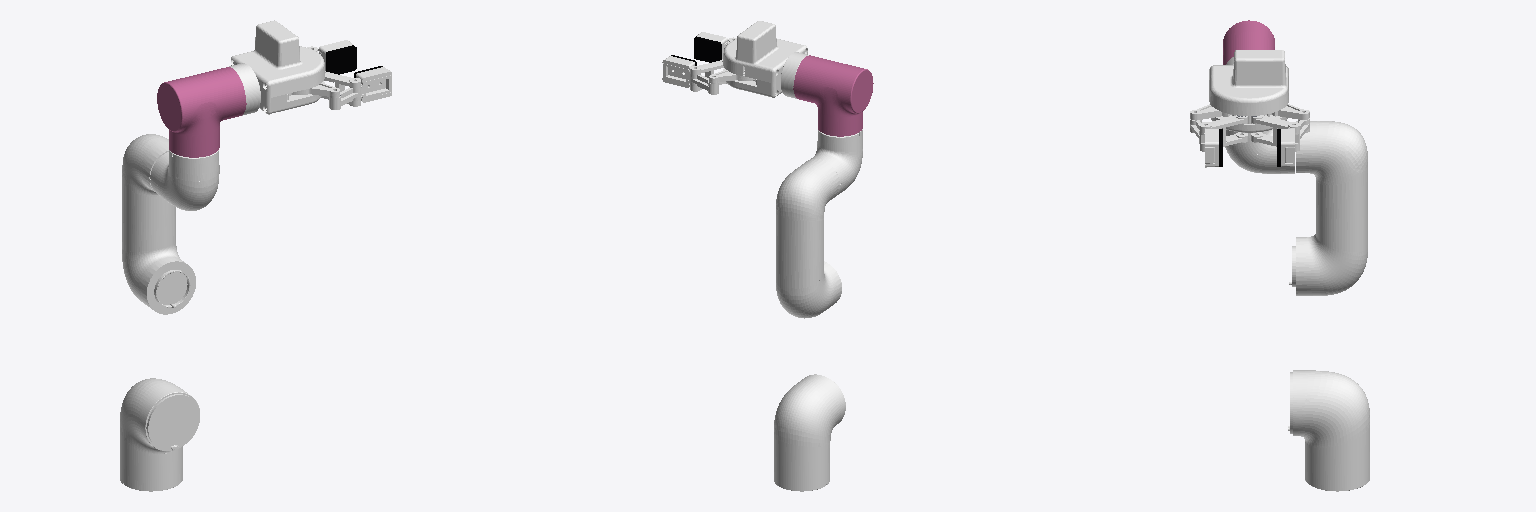
robot.urdf — mycobot_280_jn:
<?xml version="1.0"?>
<robot name="mycobot_280_jn">
  <link name="world"/>
  <joint name="world_to_joint1" type="fixed"><parent link="world"/><child link="joint1"/><origin xyz="0 0 0" rpy="0 0 0"/></joint>

  <link name="joint1">
    <visual>
      <geometry><mesh filename="package://mycobot_description/urdf/mycobot_280_jn_sim/meshes/visual/joint1.dae"/></geometry>
    </visual>
    <collision>
      <geometry><mesh filename="package://mycobot_description/urdf/mycobot_280_jn_sim/meshes/collision/joint1.stl"/></geometry>
    </collision>
    <inertial>
      <origin xyz="-0.000007 -0.000080 0.049738" rpy="0 0 0"/>
      <mass value="0.51726"/>
      <inertia ixx="1.2523e-03" ixy="7.0339e-09" ixz="-6.3450e-08" iyy="9.3955e-04" iyz="1.1529e-06" izz="1.2061e-03"/>
    </inertial>
  </link>
  <link name="joint2">
    <visual>
      <geometry><mesh filename="package://mycobot_description/urdf/mycobot_280_jn_sim/meshes/visual/joint2.dae"/></geometry>
    </visual>
    <collision>
      <geometry><mesh filename="package://mycobot_description/urdf/mycobot_280_jn_sim/meshes/collision/joint2.stl"/></geometry>
    </collision>
    <inertial>
      <origin xyz="-0.000000 -0.006642 -0.021543" rpy="0 0 0"/>
      <mass value="0.06483"/>
      <inertia ixx="4.7296e-05" ixy="-1.4455e-10" ixz="4.0893e-11" iyy="4.2690e-05" iyz="5.2950e-06" izz="2.4363e-05"/>
    </inertial>
  </link>
  <link name="joint3">
    <visual>
      <geometry><mesh filename="package://mycobot_description/urdf/mycobot_280_jn_sim/meshes/visual/joint3.dae"/></geometry>
    </visual>
    <collision>
      <geometry><mesh filename="package://mycobot_description/urdf/mycobot_280_jn_sim/meshes/collision/joint3.stl"/></geometry>
    </collision>
    <inertial>
      <origin xyz="-0.054329 -0.000001 0.055329" rpy="0 0 0"/>
      <mass value="0.11472"/>
      <inertia ixx="4.1667e-05" ixy="-4.5301e-09" ixz="-7.2144e-07" iyy="2.1506e-04" iyz="-8.8599e-10" izz="2.0847e-04"/>
    </inertial>
  </link>
  <link name="joint4">
    <visual>
      <geometry><mesh filename="package://mycobot_description/urdf/mycobot_280_jn_sim/meshes/visual/joint4.dae"/></geometry>
    </visual>
    <collision>
      <geometry><mesh filename="package://mycobot_description/urdf/mycobot_280_jn_sim/meshes/collision/joint4.stl"/></geometry>
    </collision>
    <inertial>
      <origin xyz="-0.045854 0.000000 0.007555" rpy="0 0 0"/>
      <mass value="0.09148"/>
      <inertia ixx="3.0829e-05" ixy="2.4590e-09" ixz="-3.0073e-06" iyy="1.3707e-04" iyz="1.3305e-09" izz="1.2859e-04"/>
    </inertial>
  </link>
  <link name="joint5">
    <visual>
      <geometry><mesh filename="package://mycobot_description/urdf/mycobot_280_jn_sim/meshes/visual/joint5.dae"/></geometry>
    </visual>
    <collision>
      <geometry><mesh filename="package://mycobot_description/urdf/mycobot_280_jn_sim/meshes/collision/joint5.stl"/></geometry>
    </collision>
    <inertial>
      <origin xyz="0.000001 -0.009519 -0.008481" rpy="0 0 0"/>
      <mass value="0.02935"/>
      <inertia ixx="1.1293e-05" ixy="2.2528e-10" ixz="1.0500e-10" iyy="8.1426e-06" iyz="1.6096e-06" izz="8.8742e-06"/>
    </inertial>
  </link>
  <link name="joint6">
    <visual>
      <geometry><mesh filename="package://mycobot_description/urdf/mycobot_280_jn_sim/meshes/visual/joint6.dae"/></geometry>
    </visual>
    <collision>
      <geometry><mesh filename="package://mycobot_description/urdf/mycobot_280_jn_sim/meshes/collision/joint6.stl"/></geometry>
    </collision>
    <inertial>
      <origin xyz="-0.000000 0.005619 -0.009142" rpy="0 0 0"/>
      <mass value="0.03671"/>
      <inertia ixx="1.6852e-05" ixy="1.3225e-11" ixz="9.2639e-11" iyy="1.2050e-05" iyz="-8.3674e-07" izz="1.2581e-05"/>
    </inertial>
  </link>
  <link name="joint6_flange">
    <visual>
      <geometry><mesh filename="package://mycobot_description/urdf/mycobot_280_jn_sim/meshes/visual/joint6_flange.dae"/></geometry>
    </visual>
    <collision>
      <geometry><mesh filename="package://mycobot_description/urdf/mycobot_280_jn_sim/meshes/collision/joint6_flange.stl"/></geometry>
    </collision>
    <inertial>
      <origin xyz="-0.000000 -0.000000 -0.005150" rpy="0 0 0"/>
      <mass value="0.00565"/>
      <inertia ixx="6.0852e-07" ixy="-5.1861e-24" ixz="1.4684e-24" iyy="6.0852e-07" iyz="-7.5632e-16" izz="1.0405e-06"/>
    </inertial>
  </link>
  <joint name="joint2_to_joint1" type="revolute">
    <parent link="joint1"/><child link="joint2"/>
    <origin xyz="0 0 0.15756" rpy="0 0 0"/>
    <axis xyz="0 0 1"/>
    <limit effort="10.0" lower="-2.9321" upper="2.9321" velocity="1.0"/>
    <dynamics damping="0.1" friction="0.01"/>
  </joint>
  <joint name="joint3_to_joint2" type="revolute">
    <parent link="joint2"/><child link="joint3"/>
    <origin xyz="0 0 -0.001" rpy="0 1.5708 -1.5708"/>
    <axis xyz="0 0 1"/>
    <limit effort="10.0" lower="-2.4434" upper="2.4434" velocity="1.0"/>
    <dynamics damping="0.1" friction="0.01"/>
  </joint>
  <joint name="joint4_to_joint3" type="revolute">
    <parent link="joint3"/><child link="joint4"/>
    <origin xyz="-0.1104 0 0" rpy="0 0 0"/>
    <axis xyz="0 0 1"/>
    <limit effort="10.0" lower="-2.6179" upper="2.6179" velocity="1.0"/>
    <dynamics damping="0.1" friction="0.01"/>
  </joint>
  <joint name="joint5_to_joint4" type="revolute">
    <parent link="joint4"/><child link="joint5"/>
    <origin xyz="-0.096 0 0.06462" rpy="0 0 -1.5708"/>
    <axis xyz="0 0 1"/>
    <limit effort="10.0" lower="-2.6179" upper="2.6179" velocity="1.0"/>
    <dynamics damping="0.1" friction="0.01"/>
  </joint>
  <joint name="joint6_to_joint5" type="revolute">
    <parent link="joint5"/><child link="joint6"/>
    <origin xyz="0 -0.07318 0" rpy="1.5708 -1.5708 0"/>
    <axis xyz="0 0 1"/>
    <limit effort="10.0" lower="-2.7052" upper="2.7925" velocity="1.0"/>
    <dynamics damping="0.1" friction="0.01"/>
  </joint>
  <joint name="joint6output_to_joint6" type="revolute">
    <parent link="joint6"/><child link="joint6_flange"/>
    <origin xyz="0 0.0456 0" rpy="-1.5708 0 0"/>
    <axis xyz="0 0 1"/>
    <limit effort="10.0" lower="-3.14159" upper="3.14159" velocity="1.0"/>
    <dynamics damping="0.1" friction="0.01"/>
  </joint>
  <joint name="joint6output_to_gripper_base" type="fixed">
    <parent link="joint6_flange"/><child link="gripper_base"/>
    <origin xyz="0 0 0.0340" rpy="1.5708 0 0"/>
  </joint>
  <link name="gripper_base">
    <visual>
      <geometry><mesh filename="package://mycobot_description/urdf/mycobot_280_jn_sim/meshes/visual/gripper_base.dae"/></geometry>
    </visual>
    <collision>
      <geometry><mesh filename="package://mycobot_description/urdf/mycobot_280_jn_sim/meshes/collision/gripper_base.stl"/></geometry>
    </collision>
    <inertial>
      <origin xyz="-0.001001 -0.003635 0.008093" rpy="0 0 0"/>
      <mass value="0.07075"/>
      <inertia ixx="2.8026e-05" ixy="5.3586e-08" ixz="1.3520e-06" iyy="2.7596e-05" iyz="-2.1469e-07" izz="3.3185e-05"/>
    </inertial>
  </link>
  <link name="gripper_left1">
    <visual>
      <geometry><mesh filename="package://mycobot_description/urdf/mycobot_280_jn_sim/meshes/visual/gripper_left1.dae"/></geometry>
    </visual>
    <collision>
      <geometry><mesh filename="package://mycobot_description/urdf/mycobot_280_jn_sim/meshes/collision/gripper_left1.stl"/></geometry>
    </collision>
    <inertial>
      <origin xyz="0.008214 0.028640 -0.008200" rpy="0 0 0"/>
      <mass value="0.00818"/>
      <inertia ixx="1.9436e-06" ixy="-4.0582e-07" ixz="-4.5846e-18" iyy="4.9518e-07" iyz="1.0352e-17" izz="1.9801e-06"/>
    </inertial>
  </link>
  <link name="gripper_left2">
    <visual>
      <geometry><mesh filename="package://mycobot_description/urdf/mycobot_280_jn_sim/meshes/visual/gripper_left2.dae"/></geometry>
    </visual>
    <collision>
      <geometry><mesh filename="package://mycobot_description/urdf/mycobot_280_jn_sim/meshes/collision/gripper_left2.stl"/></geometry>
    </collision>
    <inertial>
      <origin xyz="-0.014480 0.007475 -0.008200" rpy="0 0 0"/>
      <mass value="0.00382"/>
      <inertia ixx="2.5930e-07" ixy="1.8945e-07" ixz="3.4700e-22" iyy="4.8476e-07" iyz="-1.7350e-22" izz="4.9007e-07"/>
    </inertial>
  </link>
  <link name="gripper_left3">
    <visual>
      <geometry><mesh filename="package://mycobot_description/urdf/mycobot_280_jn_sim/meshes/visual/gripper_left3.dae"/></geometry>
    </visual>
    <collision>
      <geometry><mesh filename="package://mycobot_description/urdf/mycobot_280_jn_sim/meshes/collision/gripper_left3.stl"/></geometry>
    </collision>
    <inertial>
      <origin xyz="-0.007273 0.003393 -0.000700" rpy="0 0 0"/>
      <mass value="0.00262"/>
      <inertia ixx="1.8212e-07" ixy="1.1552e-07" ixz="3.0543e-22" iyy="3.1951e-07" iyz="-1.8344e-22" izz="4.9073e-07"/>
    </inertial>
  </link>
  <link name="gripper_right1">
    <visual>
      <geometry><mesh filename="package://mycobot_description/urdf/mycobot_280_jn_sim/meshes/visual/gripper_right1.dae"/></geometry>
    </visual>
    <collision>
      <geometry><mesh filename="package://mycobot_description/urdf/mycobot_280_jn_sim/meshes/collision/gripper_right1.stl"/></geometry>
    </collision>
    <inertial>
      <origin xyz="-0.009429 0.029012 -0.008200" rpy="0 0 0"/>
      <mass value="0.00818"/>
      <inertia ixx="1.9436e-06" ixy="4.0581e-07" ixz="-4.5855e-18" iyy="4.9518e-07" iyz="-1.0353e-17" izz="1.9801e-06"/>
    </inertial>
  </link>
  <link name="gripper_right2">
    <visual>
      <geometry><mesh filename="package://mycobot_description/urdf/mycobot_280_jn_sim/meshes/visual/gripper_right2.dae"/></geometry>
    </visual>
    <collision>
      <geometry><mesh filename="package://mycobot_description/urdf/mycobot_280_jn_sim/meshes/collision/gripper_right2.stl"/></geometry>
    </collision>
    <inertial>
      <origin xyz="0.013373 0.007661 -0.008200" rpy="0 0 0"/>
      <mass value="0.00382"/>
      <inertia ixx="2.6459e-07" ixy="-1.9250e-07" ixz="-4.0483e-22" iyy="4.7946e-07" iyz="2.8917e-23" izz="4.9007e-07"/>
    </inertial>
  </link>
  <link name="gripper_right3">
    <visual>
      <geometry><mesh filename="package://mycobot_description/urdf/mycobot_280_jn_sim/meshes/visual/gripper_right3.dae"/></geometry>
    </visual>
    <collision>
      <geometry><mesh filename="package://mycobot_description/urdf/mycobot_280_jn_sim/meshes/collision/gripper_right3.stl"/></geometry>
    </collision>
    <inertial>
      <origin xyz="0.006227 0.003481 -0.000700" rpy="0 0 0"/>
      <mass value="0.00262"/>
      <inertia ixx="1.8527e-07" ixy="-1.1744e-07" ixz="-1.9519e-22" iyy="3.1623e-07" iyz="-1.5091e-22" izz="4.9060e-07"/>
    </inertial>
  </link>
  <joint name="gripper_controller" type="revolute">
    <parent link="gripper_base"/><child link="gripper_left3"/>
    <origin xyz="-0.012 0.005 0" rpy="0 0 0"/>
    <axis xyz="0 0 1"/>
    <limit effort="10.0" lower="-0.74" upper="0.15" velocity="1.0"/>
    <dynamics damping="0.1" friction="0.01"/>
  </joint>
  <joint name="gripper_base_to_gripper_left2" type="revolute">
    <parent link="gripper_base"/><child link="gripper_left2"/>
    <origin xyz="-0.005 0.027 0" rpy="0 0 0"/>
    <axis xyz="0 0 1"/>
    <limit effort="10.0" lower="-0.8" upper="0.5" velocity="1.0"/>
    <dynamics damping="0.1" friction="0.01"/>
    <mimic joint="gripper_controller" multiplier="1.0" offset="0"/>
  </joint>
  <joint name="gripper_left3_to_gripper_left1" type="revolute">
    <parent link="gripper_left3"/><child link="gripper_left1"/>
    <origin xyz="-0.027 0.016 0" rpy="0 0 0"/>
    <axis xyz="0 0 1"/>
    <limit effort="10.0" lower="-0.5" upper="0.5" velocity="1.0"/>
    <dynamics damping="0.1" friction="0.01"/>
    <mimic joint="gripper_controller" multiplier="-1.0" offset="0"/>
  </joint>
  <joint name="gripper_base_to_gripper_right3" type="revolute">
    <parent link="gripper_base"/><child link="gripper_right3"/>
    <origin xyz="0.012 0.005 0" rpy="0 0 0"/>
    <axis xyz="0 0 1"/>
    <limit effort="10.0" lower="-0.15" upper="0.7" velocity="1.0"/>
    <dynamics damping="0.1" friction="0.01"/>
    <mimic joint="gripper_controller" multiplier="-1.0" offset="0"/>
  </joint>
  <joint name="gripper_base_to_gripper_right2" type="revolute">
    <parent link="gripper_base"/><child link="gripper_right2"/>
    <origin xyz="0.005 0.027 0" rpy="0 0 0"/>
    <axis xyz="0 0 1"/>
    <limit effort="10.0" lower="-0.5" upper="0.8" velocity="1.0"/>
    <dynamics damping="0.1" friction="0.01"/>
    <mimic joint="gripper_controller" multiplier="-1.0" offset="0"/>
  </joint>
  <joint name="gripper_right3_to_gripper_right1" type="revolute">
    <parent link="gripper_right3"/><child link="gripper_right1"/>
    <origin xyz="0.027 0.016 0" rpy="0 0 0"/>
    <axis xyz="0 0 1"/>
    <limit effort="10.0" lower="-0.5" upper="0.5" velocity="1.0"/>
    <dynamics damping="0.1" friction="0.01"/>
    <mimic joint="gripper_controller" multiplier="1.0" offset="0"/>
  </joint>

  <!-- Gazebo: gravity off on the moving links (passive joints would otherwise fall; no controller yet) -->
  <gazebo reference="joint2"><turnGravityOff>true</turnGravityOff></gazebo>
  <gazebo reference="joint3"><turnGravityOff>true</turnGravityOff></gazebo>
  <gazebo reference="joint4"><turnGravityOff>true</turnGravityOff></gazebo>
  <gazebo reference="joint5"><turnGravityOff>true</turnGravityOff></gazebo>
  <gazebo reference="joint6"><turnGravityOff>true</turnGravityOff></gazebo>
  <gazebo reference="joint6_flange"><turnGravityOff>true</turnGravityOff></gazebo>
  <gazebo reference="gripper_base"><turnGravityOff>true</turnGravityOff></gazebo>
  <gazebo reference="gripper_left1"><turnGravityOff>true</turnGravityOff></gazebo>
  <gazebo reference="gripper_left2"><turnGravityOff>true</turnGravityOff></gazebo>
  <gazebo reference="gripper_left3"><turnGravityOff>true</turnGravityOff></gazebo>
  <gazebo reference="gripper_right1"><turnGravityOff>true</turnGravityOff></gazebo>
  <gazebo reference="gripper_right2"><turnGravityOff>true</turnGravityOff></gazebo>
  <gazebo reference="gripper_right3"><turnGravityOff>true</turnGravityOff></gazebo>
</robot>

--- Facts derived from the render (not from the file) ---
Views: 3 orthographic renders of the robot side by side, from view 1: azimuth 30°, elevation 25°; view 2: azimuth 150°, elevation 25°; view 3: azimuth 270°, elevation 25°.
Model mycobot_280_jn with 15 links and 14 joints (12 revolute, 2 fixed), rooted at world, posed all joints at 0.
Visible links, largest first — view 1: joint4, joint2, joint6, gripper_base, joint5, gripper_right1, gripper_left1, joint6_flange; view 2: joint4, joint2, joint6, gripper_base, joint5, gripper_left1, gripper_right1, joint6_flange; view 3: joint4, joint2, gripper_base, joint5, joint6, gripper_right1, gripper_left1, gripper_left2, gripper_right2.
Boxes of the visible links, left/top/right/bottom form: joint4: left=122, top=134, right=195, bottom=314; joint2: left=120, top=378, right=199, bottom=491; joint6: left=157, top=67, right=246, bottom=157; gripper_base: left=231, top=20, right=324, bottom=114; joint5: left=150, top=150, right=219, bottom=210; gripper_right1: left=329, top=66, right=391, bottom=109; gripper_left1: left=318, top=40, right=356, bottom=74; joint6_flange: left=229, top=63, right=260, bottom=115; joint4: left=776, top=159, right=841, bottom=318; joint2: left=774, top=374, right=845, bottom=491; joint6: left=793, top=55, right=873, bottom=136; gripper_base: left=723, top=21, right=807, bottom=97; joint5: left=811, top=129, right=862, bottom=197; gripper_left1: left=662, top=55, right=718, bottom=94; gripper_right1: left=694, top=32, right=727, bottom=62; joint6_flange: left=781, top=52, right=808, bottom=98; joint4: left=1289, top=121, right=1367, bottom=295; joint2: left=1288, top=370, right=1369, bottom=491; gripper_base: left=1209, top=50, right=1288, bottom=132; joint5: left=1225, top=129, right=1294, bottom=173; joint6: left=1223, top=20, right=1274, bottom=64; gripper_right1: left=1190, top=119, right=1222, bottom=167; gripper_left1: left=1277, top=118, right=1309, bottom=166; gripper_left2: left=1251, top=115, right=1299, bottom=151; gripper_right2: left=1200, top=115, right=1247, bottom=151.
Bounding box of the posed robot: 0.1782 × 0.1321 × 0.3804 m (x, y, z).
12 mesh visuals loaded from 14 distinct referenced files (12 Collada DAE); not drawn: 2 (reference not matched to a file when rendering).
